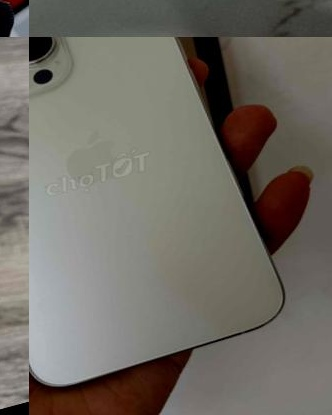scratch: (29, 37, 76, 112)
